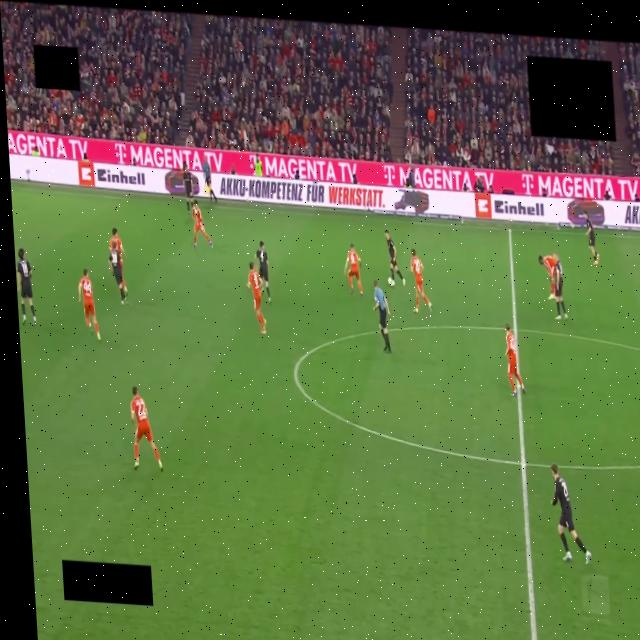ball: (388, 278, 394, 287)
player: (552, 464, 591, 564), (131, 386, 162, 472), (78, 269, 101, 340), (16, 248, 36, 325), (505, 324, 525, 397), (410, 250, 432, 314), (247, 263, 266, 334), (109, 241, 129, 304), (384, 230, 405, 285), (109, 228, 127, 290), (255, 240, 271, 303), (192, 199, 212, 248), (554, 252, 568, 320), (345, 245, 362, 295), (584, 212, 599, 265), (538, 256, 555, 300), (182, 164, 193, 215)
referee: (374, 280, 390, 353)
